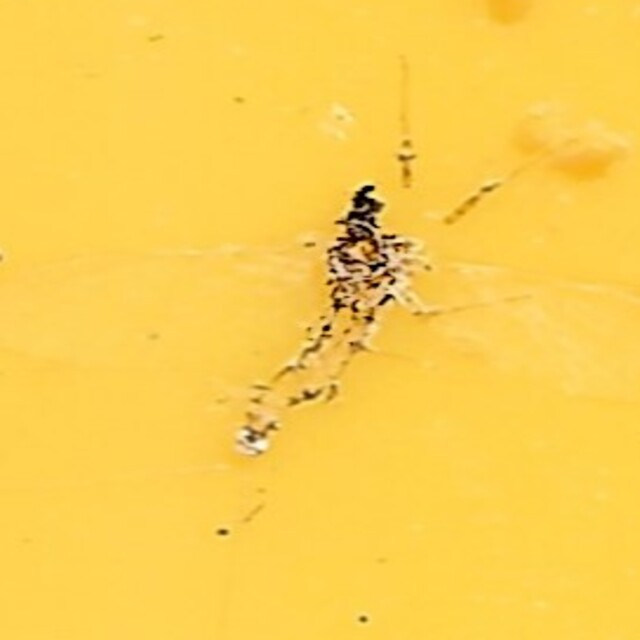Nematocera: (235, 184, 405, 456)
